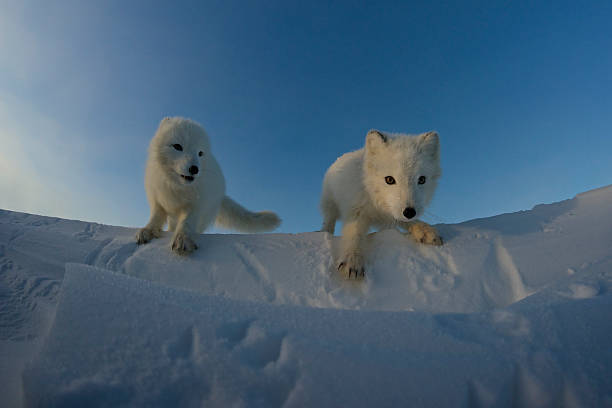arcticfox: (365, 144, 435, 240), (161, 126, 209, 193)
